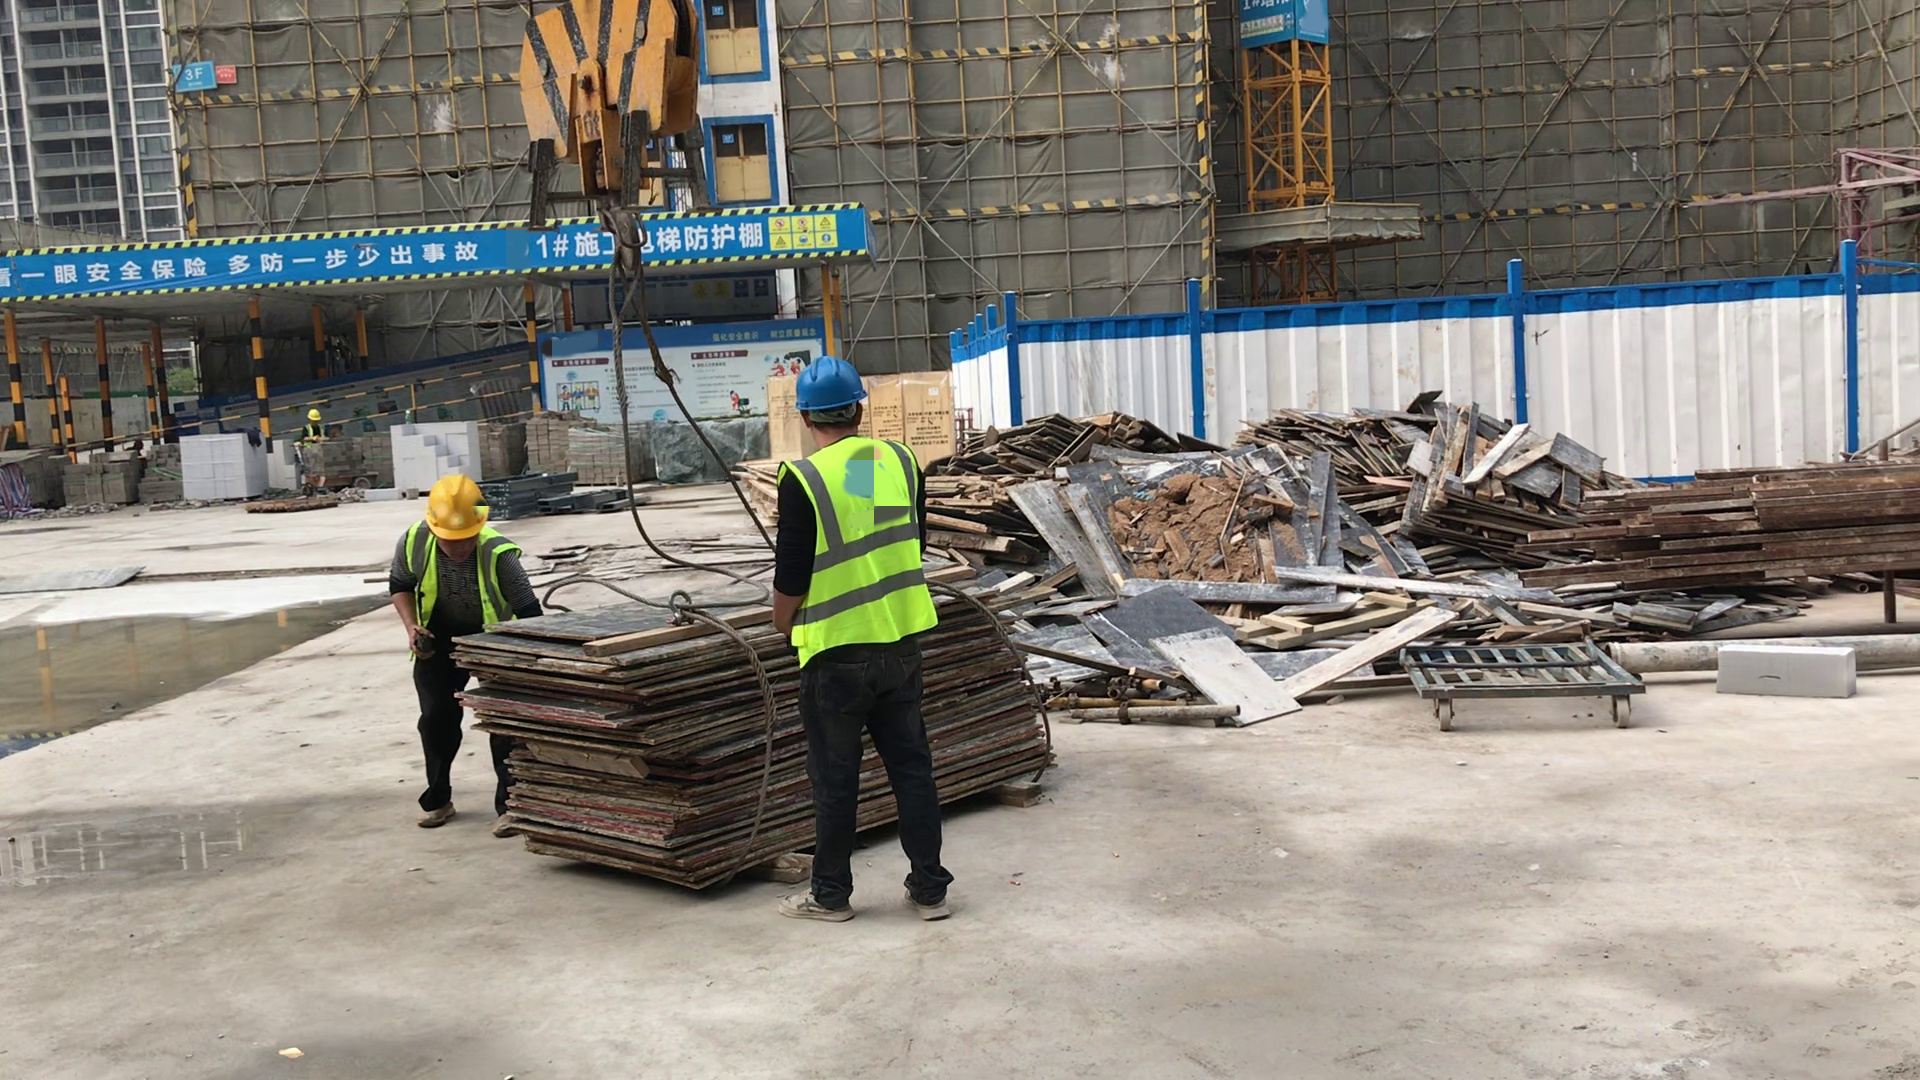board: (450, 593, 1061, 891)
brick: (180, 431, 297, 502), (388, 421, 481, 492)
helmet: (424, 475, 489, 543), (796, 357, 867, 409)
hook: (515, 10, 710, 280)
person: (768, 355, 955, 924), (387, 473, 539, 839), (302, 408, 326, 443)
slogan: (3, 225, 480, 290), (773, 214, 843, 246), (1240, 15, 1283, 40)
vest: (783, 430, 940, 665), (406, 524, 521, 643), (306, 424, 323, 440)
